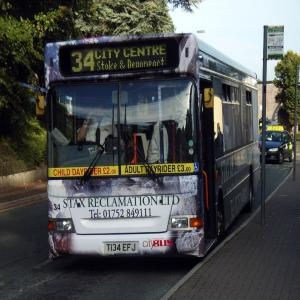Vehicle-registration-plate: (104, 243, 140, 256)
